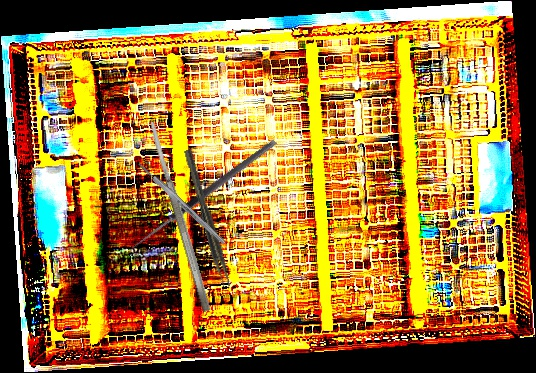Hook Surgical: (127, 137, 283, 262)
Scalpel Handle: (136, 161, 227, 246)
Spatula Surgical: (147, 120, 212, 313)
Tissue Forceps: (183, 147, 233, 289)
